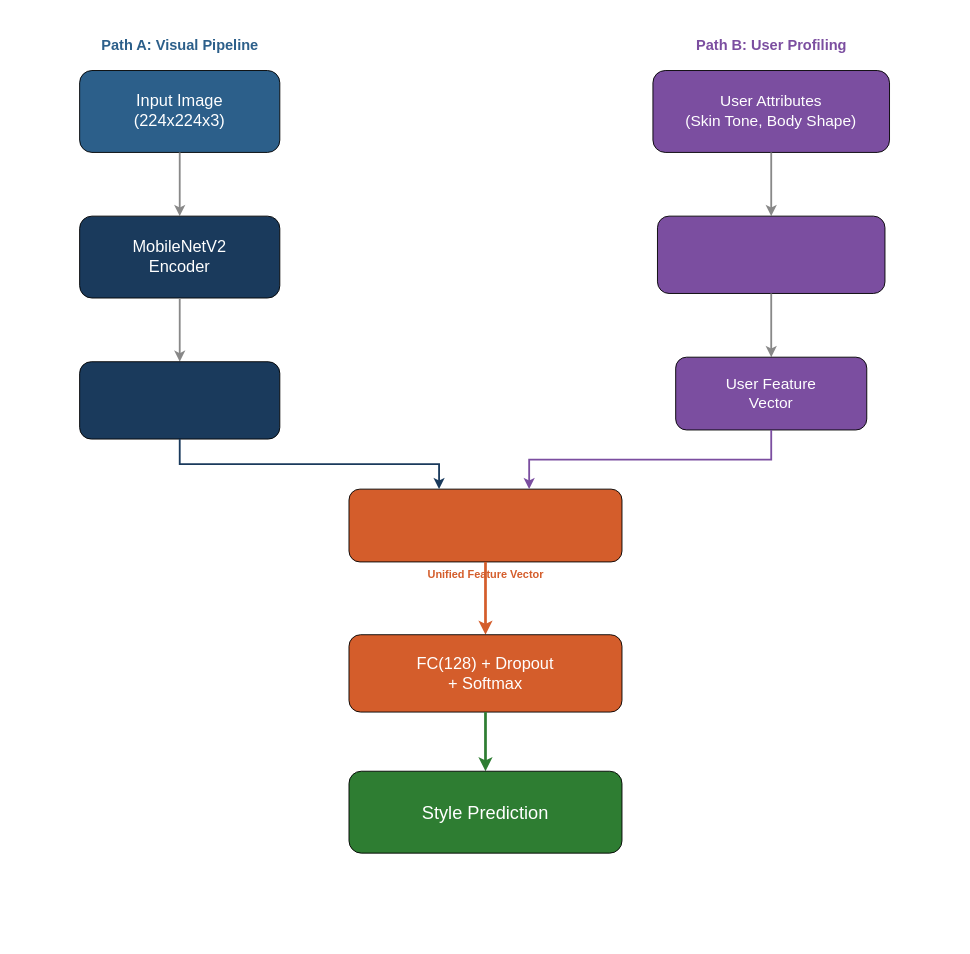
Some shapes in this 970 by 954 pixel diagram are drawn without their labels. The centre of each missing label's shape, as x and y in pixels:
Feature Concatenation: pixel 485 525
GAP + Flatten (Feature Vector): pixel 179 400
Profile Encoder (One-hot + Embed): pixel 771 254
